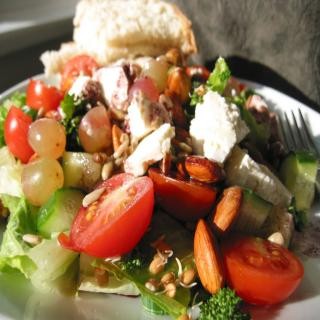tomato: (73, 175, 154, 257), (222, 232, 304, 306), (1, 104, 37, 162), (61, 51, 100, 97), (21, 77, 65, 115)
